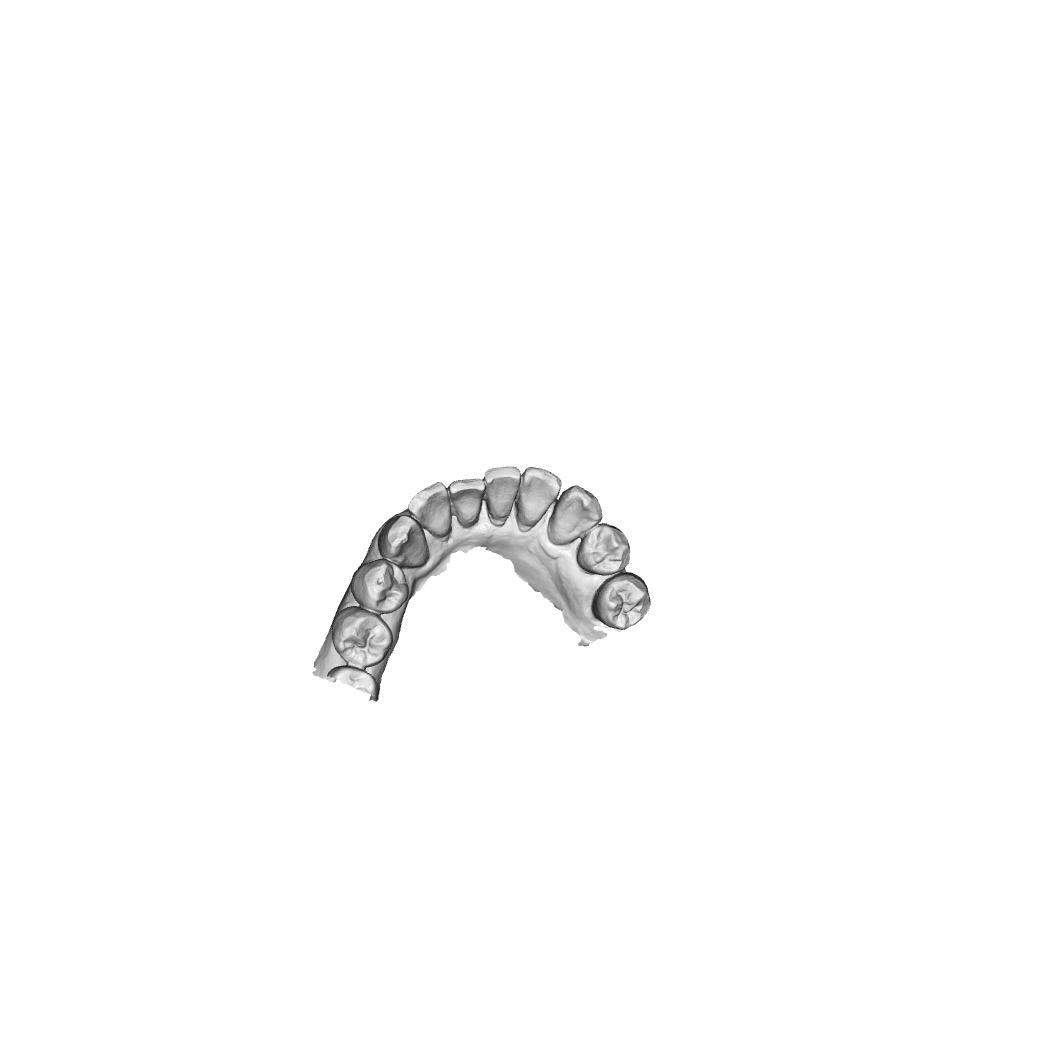canine: (546, 484, 603, 545), (377, 514, 430, 569)
incisor: (515, 466, 563, 532), (407, 481, 454, 540), (483, 465, 522, 527), (447, 477, 486, 529)
premolar: (331, 605, 395, 671), (590, 572, 652, 631), (350, 557, 410, 615), (576, 523, 631, 576)
